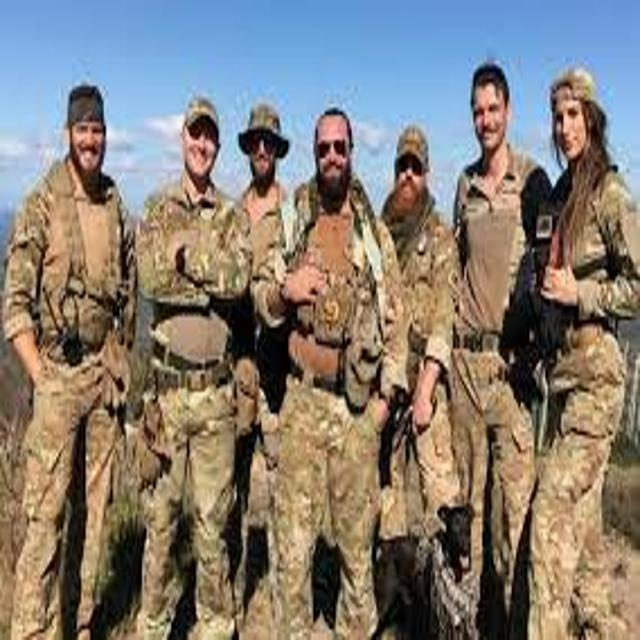ranger: (395, 47, 585, 637), (246, 89, 428, 640), (478, 55, 640, 638), (109, 72, 269, 633), (2, 66, 154, 640), (337, 108, 493, 620), (202, 87, 323, 425)
